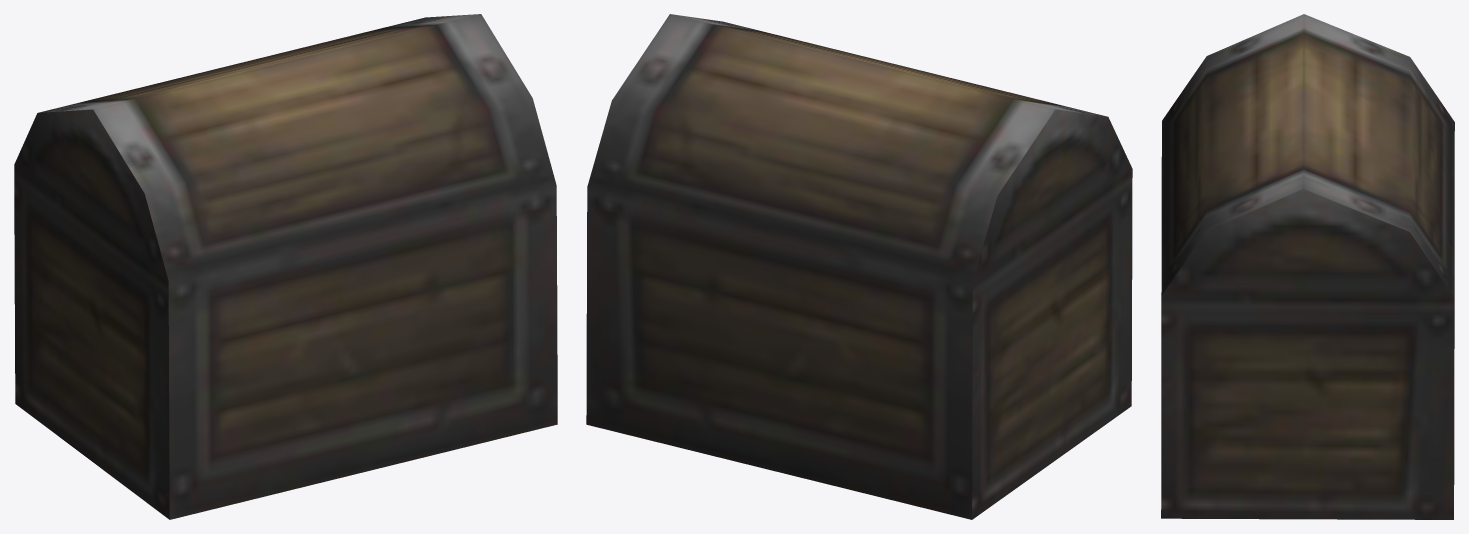
The model's file is h5_xiangzi.FBX.
The picture shows the model from 3 angles, left to right: view 1: azimuth 30°, elevation 25°; view 2: azimuth 150°, elevation 25°; view 3: azimuth 270°, elevation 25°; orthographic projection. The views are drawn at different scales.
Visible parts, largest first — view 1: h5_xiangzi; view 2: h5_xiangzi; view 3: h5_xiangzi.
Part boxes in pixels (left/top/right/bottom): h5_xiangzi: left=14, top=14, right=557, bottom=519; h5_xiangzi: left=586, top=14, right=1132, bottom=519; h5_xiangzi: left=1161, top=14, right=1454, bottom=519.
Size of the model in its own units: 1.32 by 1.14 by 0.9184.
